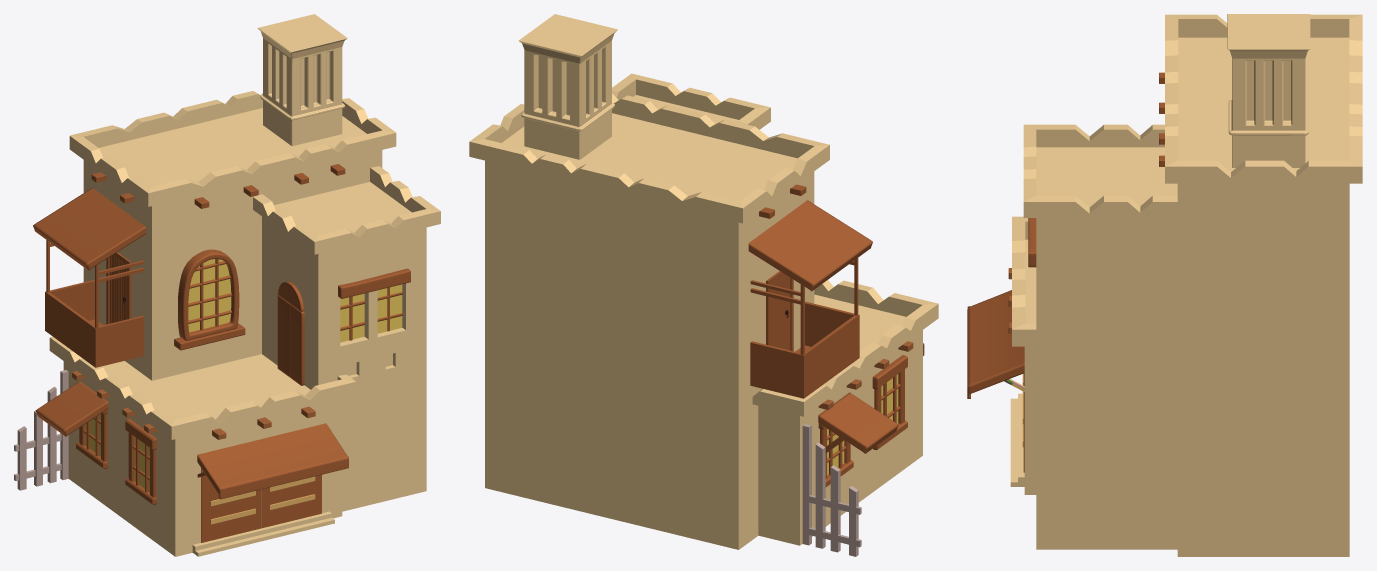
Rendered from RestaurantOutdoor.fbx.
The picture shows the model from 3 angles, left to right: view 1: azimuth 30°, elevation 25°; view 2: azimuth 150°, elevation 25°; view 3: azimuth 270°, elevation 25°; orthographic projection. The views are drawn at different scales.
Parts seen in each view (by area): view 1: Building01, Building03, Building02, WindCatcher01, Fence01; view 2: Building01, Building03, WindCatcher01, Fence01, Building02; view 3: Building01, Building02, WindCatcher01, Building03.
Boxes of the visible parts, left/top/right/bottom form: Building01: left=33, top=91, right=396, bottom=380; Building03: left=35, top=336, right=356, bottom=556; Building02: left=253, top=166, right=440, bottom=511; WindCatcher01: left=257, top=14, right=347, bottom=146; Fence01: left=14, top=370, right=68, bottom=490; Building01: left=469, top=93, right=872, bottom=549; Building03: left=752, top=280, right=938, bottom=545; WindCatcher01: left=518, top=14, right=617, bottom=159; Fence01: left=802, top=424, right=861, bottom=556; Building02: left=612, top=73, right=770, bottom=129; Building01: left=1159, top=14, right=1362, bottom=556; Building02: left=1023, top=124, right=1177, bottom=549; WindCatcher01: left=1227, top=14, right=1310, bottom=167; Building03: left=967, top=216, right=1036, bottom=494.
Bounding box in the file's own units: 3.78 × 4.37 × 3.14.
